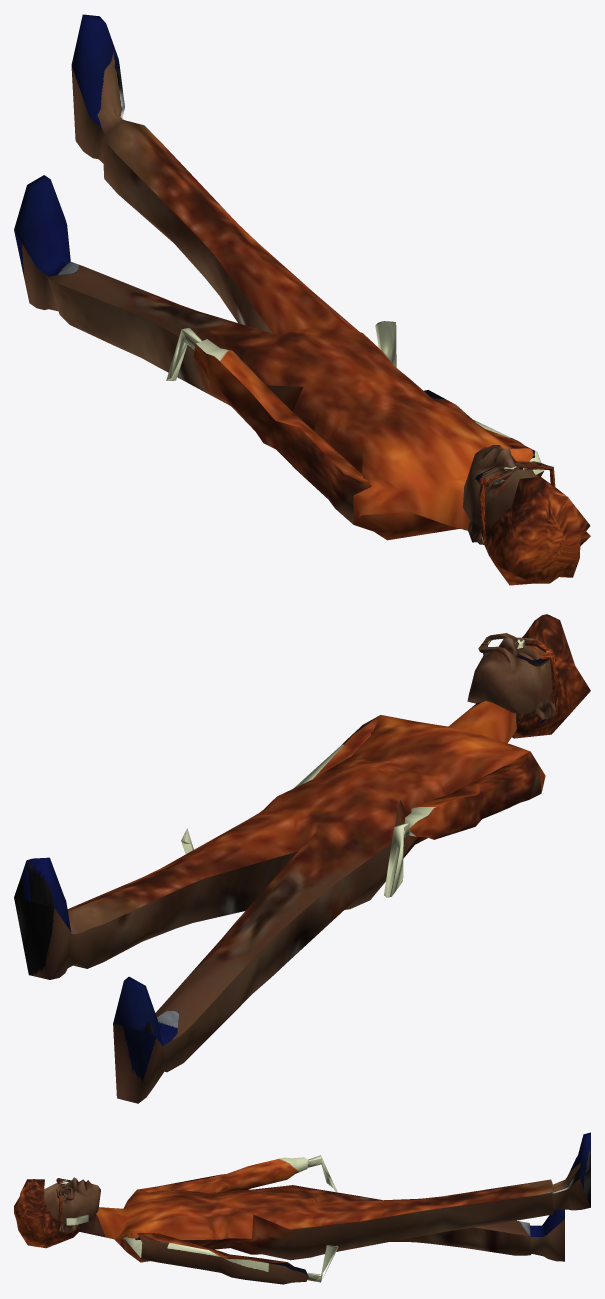
Rendered from npc_pak_guru_walk3.obj.
3 views of the same model, one above another, from view 1: azimuth 30°, elevation 25°; view 2: azimuth 150°, elevation 25°; view 3: azimuth 270°, elevation 25° (orthographic). The views are drawn at different scales.
Visible parts, largest first — view 1: npc_pak_guru_walk3; view 2: npc_pak_guru_walk3; view 3: npc_pak_guru_walk3.
Part boxes in pixels (x1,y1,x2,y2): npc_pak_guru_walk3: (14, 14, 590, 585); npc_pak_guru_walk3: (14, 614, 590, 1103); npc_pak_guru_walk3: (14, 1132, 590, 1284).
Bounding box in the file's own units: 0.4654 × 0.495 × 1.79.
Materials: 1 (1 with a texture image).
